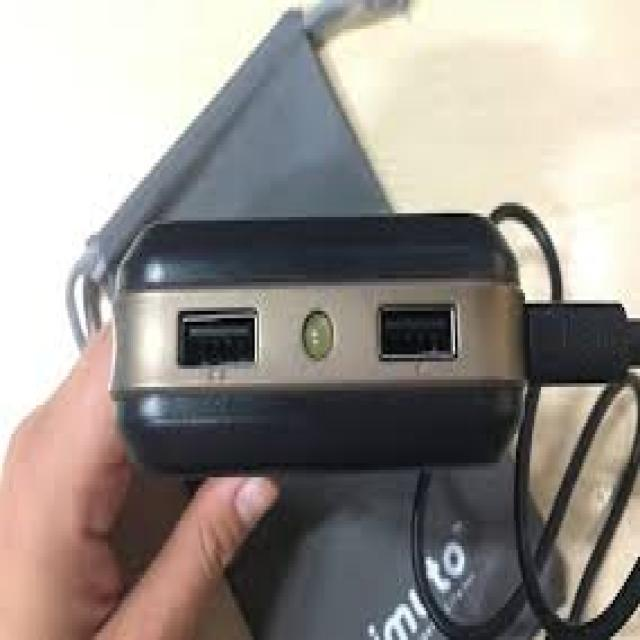power_bank: (110, 202, 536, 481)
